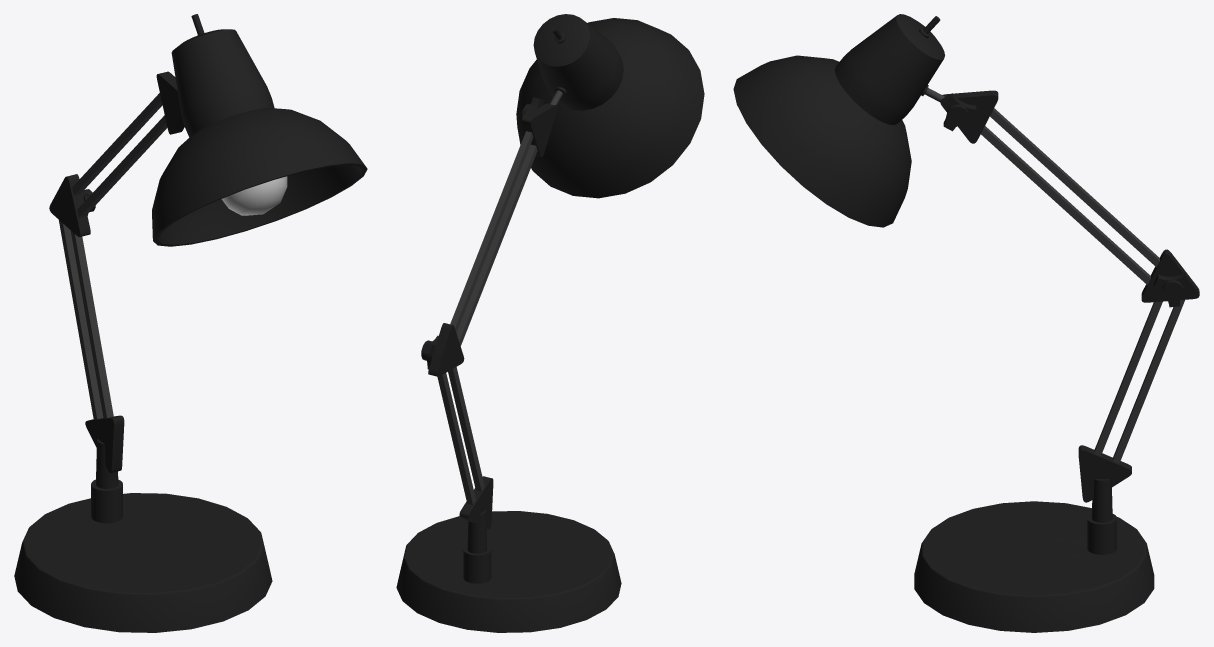
Rendered from scene_bank_lamp_01.fbx.
3 renders of one model, left to right at view 1: azimuth 30°, elevation 25°; view 2: azimuth 150°, elevation 25°; view 3: azimuth 270°, elevation 25°, orthographic. The views are drawn at different scales.
Visible parts, largest first — view 1: desk-light; view 2: desk-light; view 3: desk-light.
Part boxes in pixels (x1=…): desk-light: x1=14, y1=14, x2=367, y2=632; desk-light: x1=396, y1=14, x2=704, y2=632; desk-light: x1=733, y1=14, x2=1199, y2=632.
Size of the model in its own units: 18.87 by 48.57 by 36.29.
